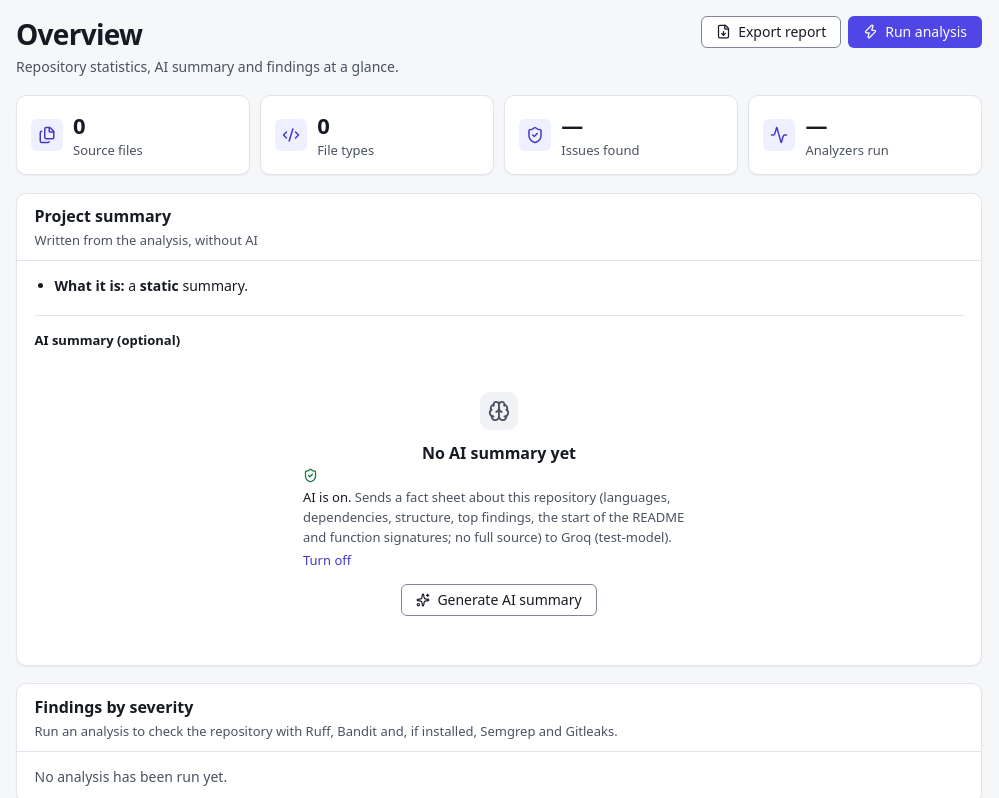
Test: LLM calls are never retried (C4) › summary generation is sent once even on a server error
Click the button "Generate AI summary". click: [499, 600]
box: top-left (401, 584), bottom-right (597, 616)
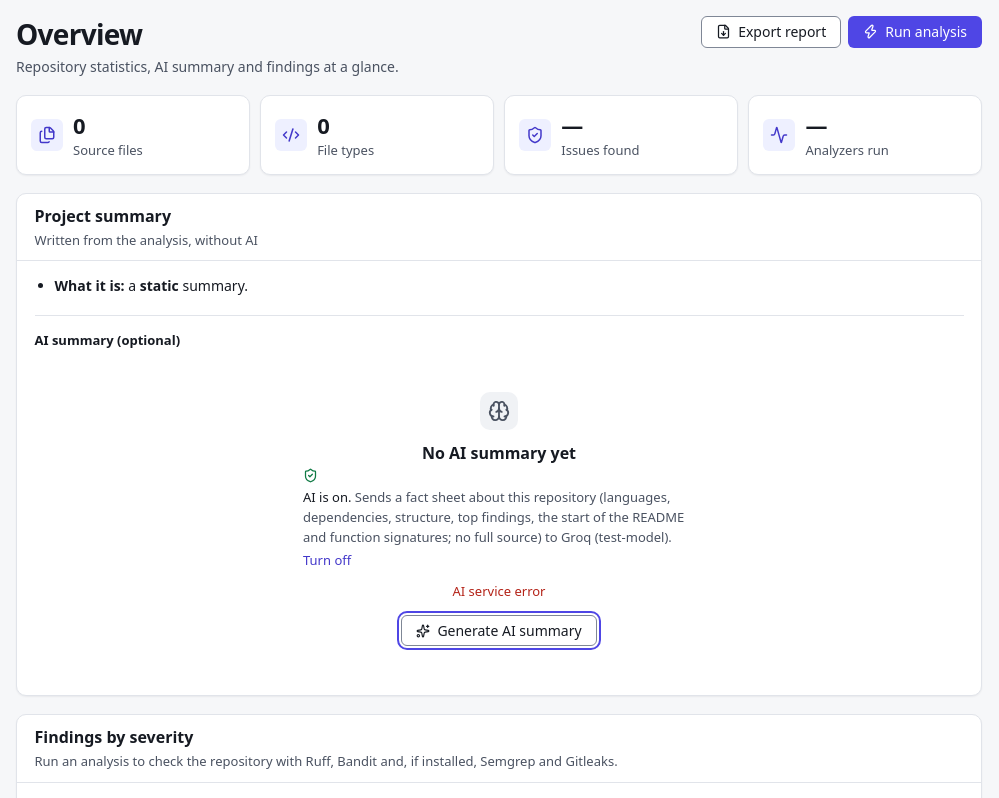
Now the text "AI service error" is shown, box top-left (452, 582), bottom-right (546, 600)
